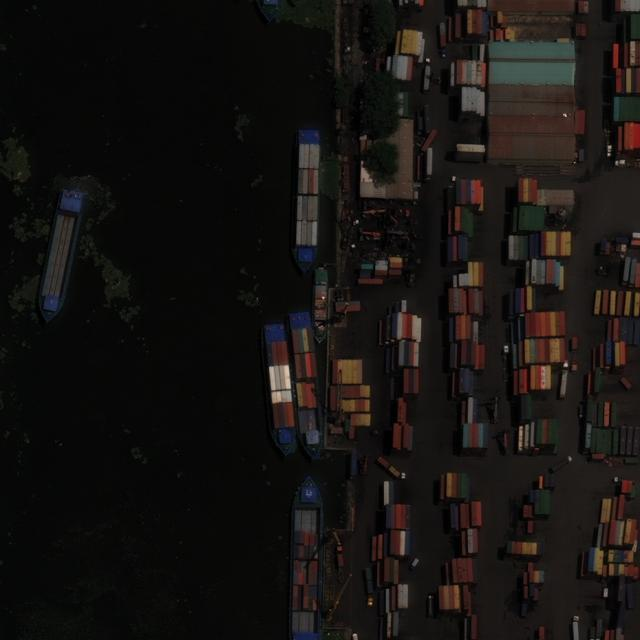Container Ship: (34, 188, 87, 326), (290, 477, 328, 639), (289, 310, 325, 461), (261, 322, 299, 457), (293, 127, 322, 275), (312, 268, 329, 344), (254, 1, 283, 24)
